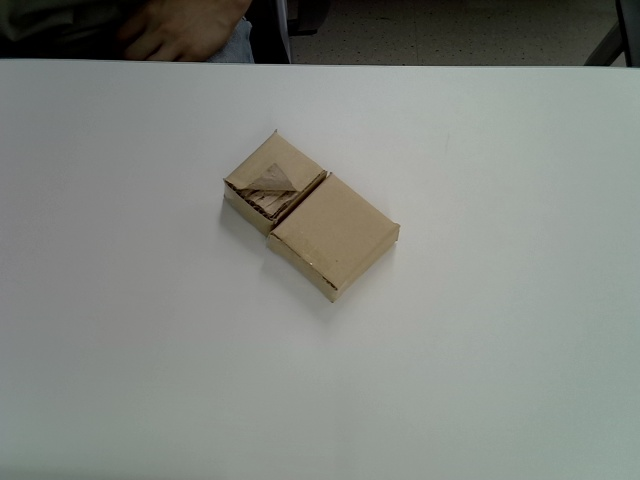defect: (222, 130, 330, 236)
normal: (269, 170, 399, 303)
